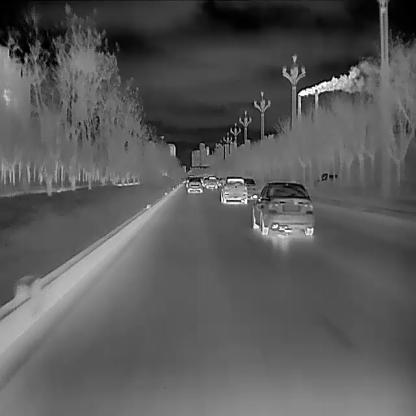car: (252, 180, 315, 235), (219, 177, 245, 203), (240, 177, 255, 198), (186, 179, 202, 192), (204, 177, 217, 189)
